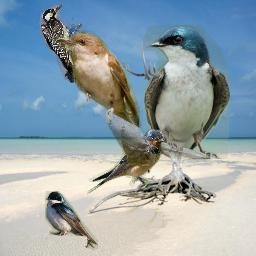Cuckoo: (54, 30, 150, 168)
Swallow: (143, 25, 230, 159), (87, 129, 165, 195), (45, 191, 98, 251)
Woodpecker: (37, 2, 89, 83)
